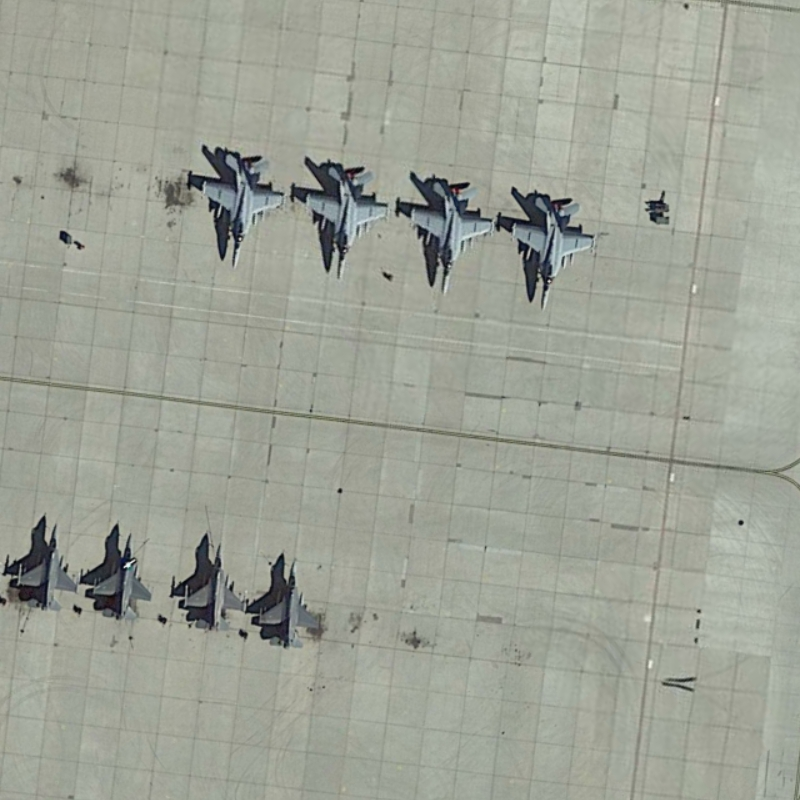A16: (190, 139, 291, 272), (403, 170, 501, 302), (298, 155, 394, 287), (506, 184, 598, 317)
A5: (250, 548, 329, 655), (176, 537, 254, 645), (6, 514, 84, 620), (87, 527, 160, 625)
